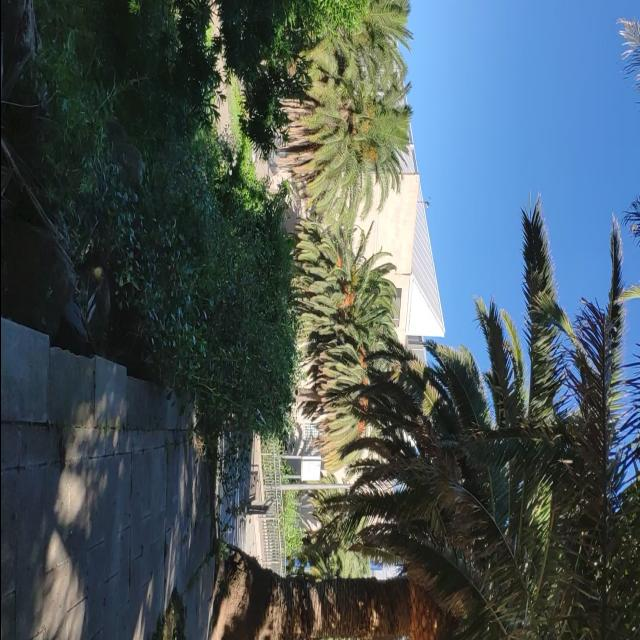Palm-Trees: (216, 247, 640, 640), (262, 64, 411, 205)
